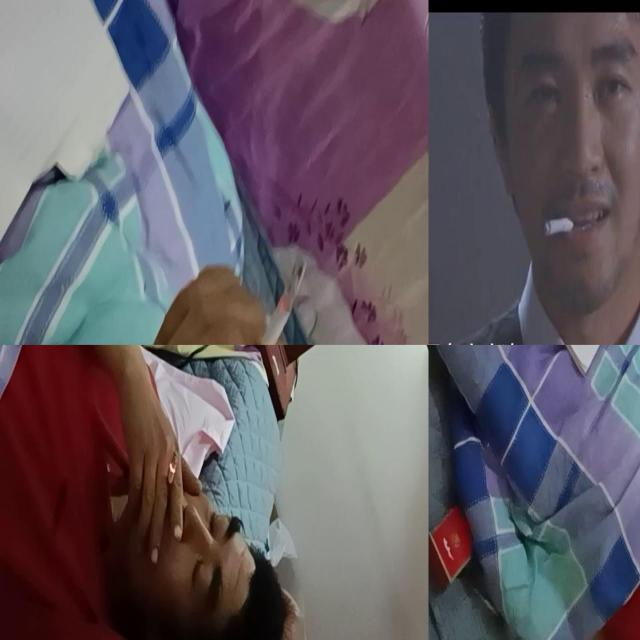smoke: (246, 258, 308, 344), (544, 218, 576, 238), (166, 452, 178, 497)
